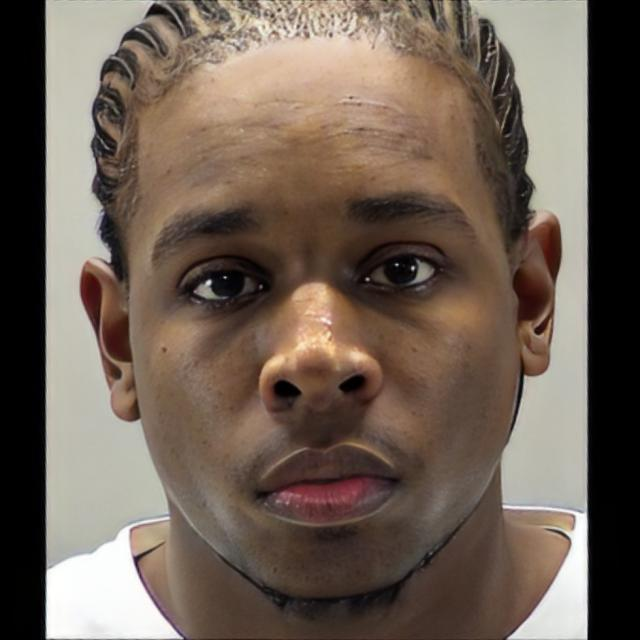sad: (128, 37, 520, 603)
